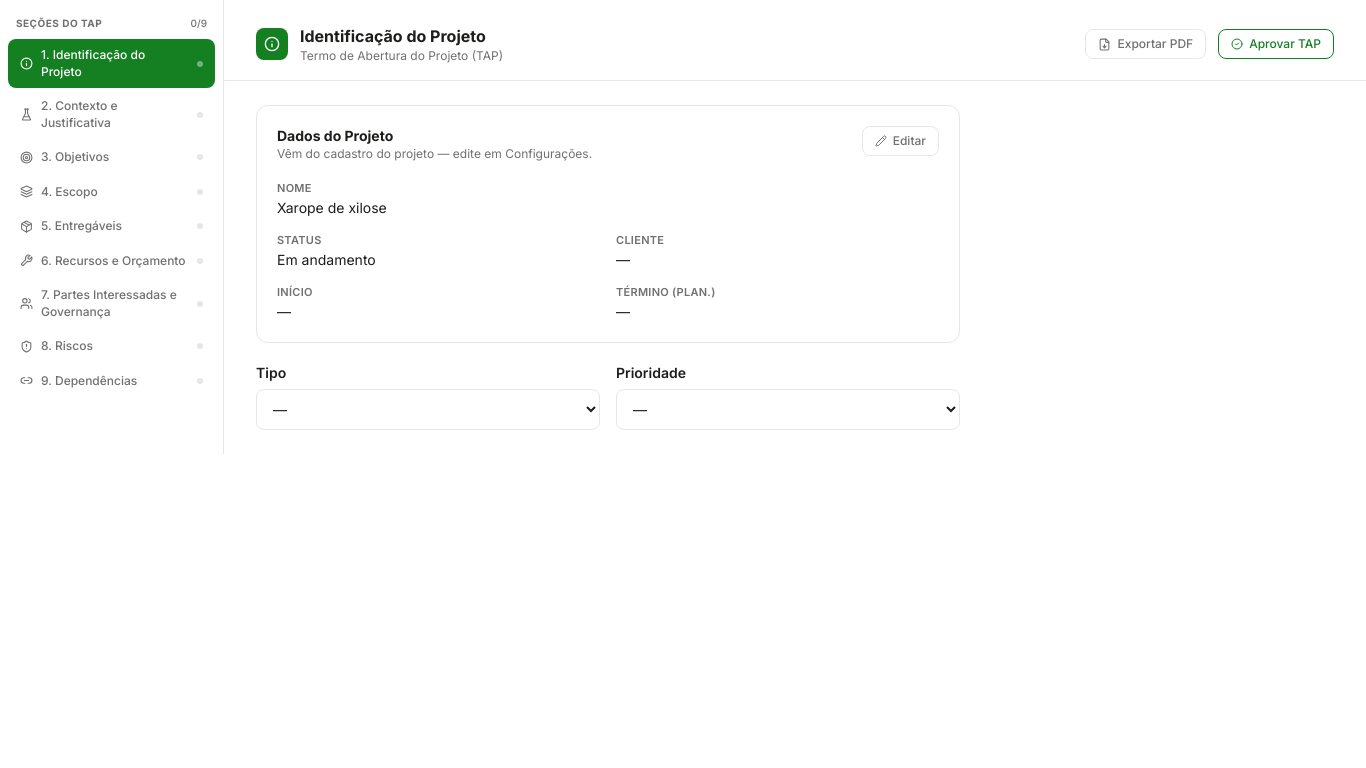
Scenario: CharterClient — estado de salvamento › should report the time of the autosave once the field loses focus
Click the button "6. Recursos e Orçamento" at (112, 261), box [8, 244, 215, 277]
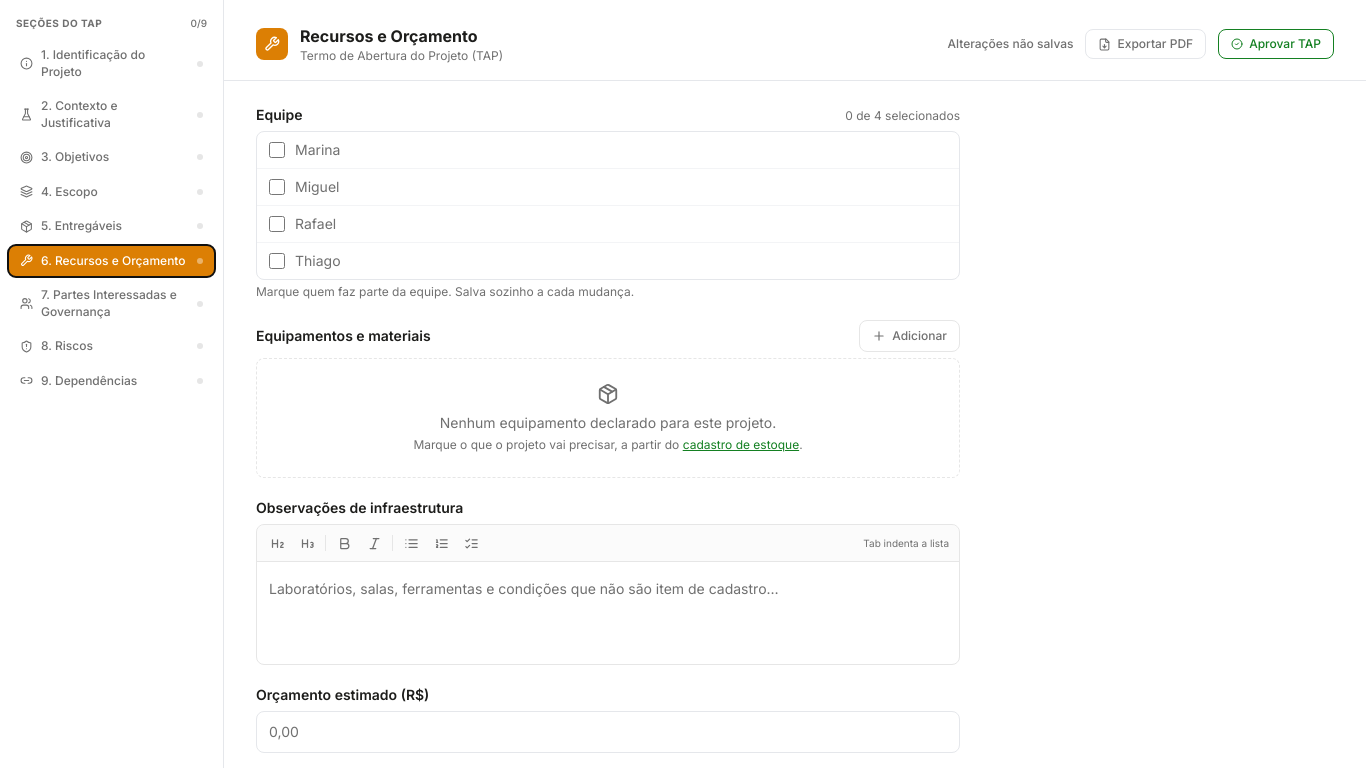
Type "1200" into the field with placeholder "0,00" at (608, 732), box [256, 711, 960, 753]
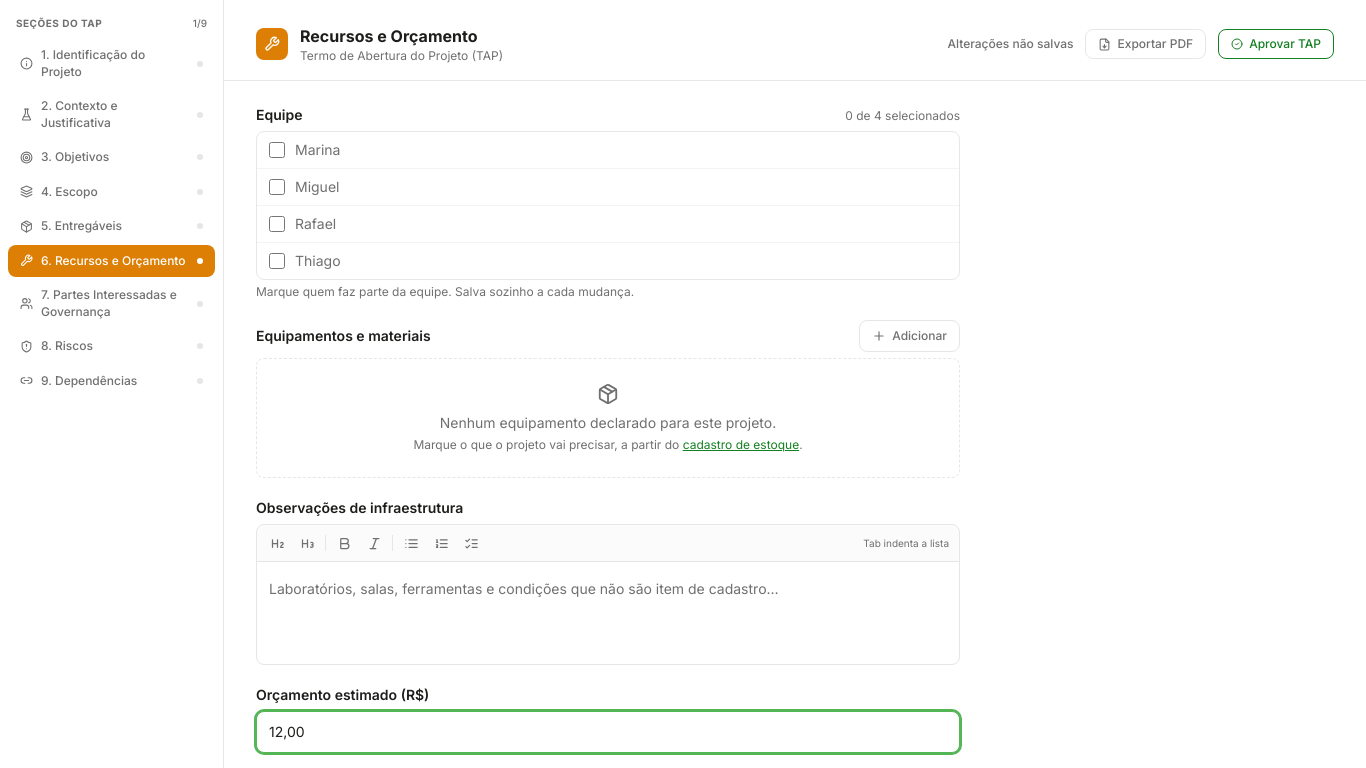
Press Tab
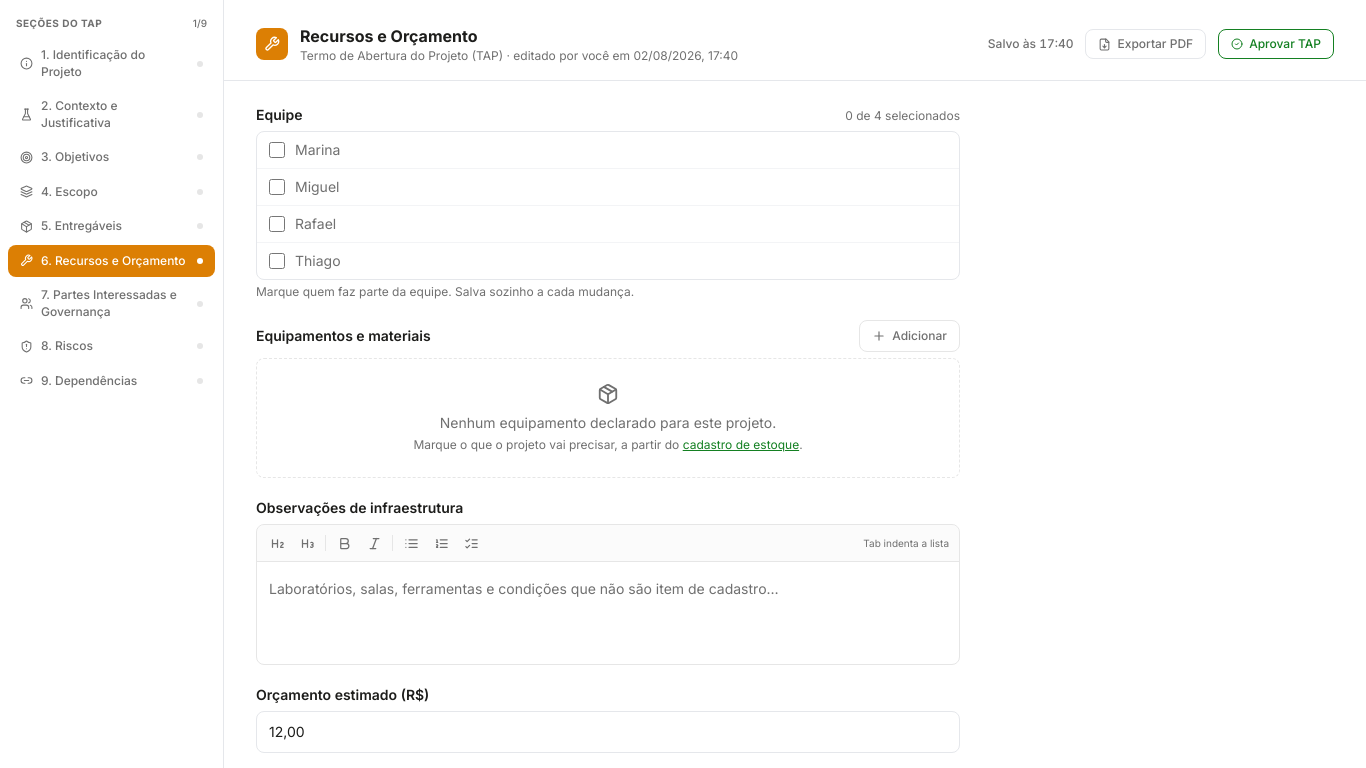
Result: the text "Salvo às 17:40" is shown at [988, 36, 1073, 52]
Result: the text "Alterações não salvas" is gone
